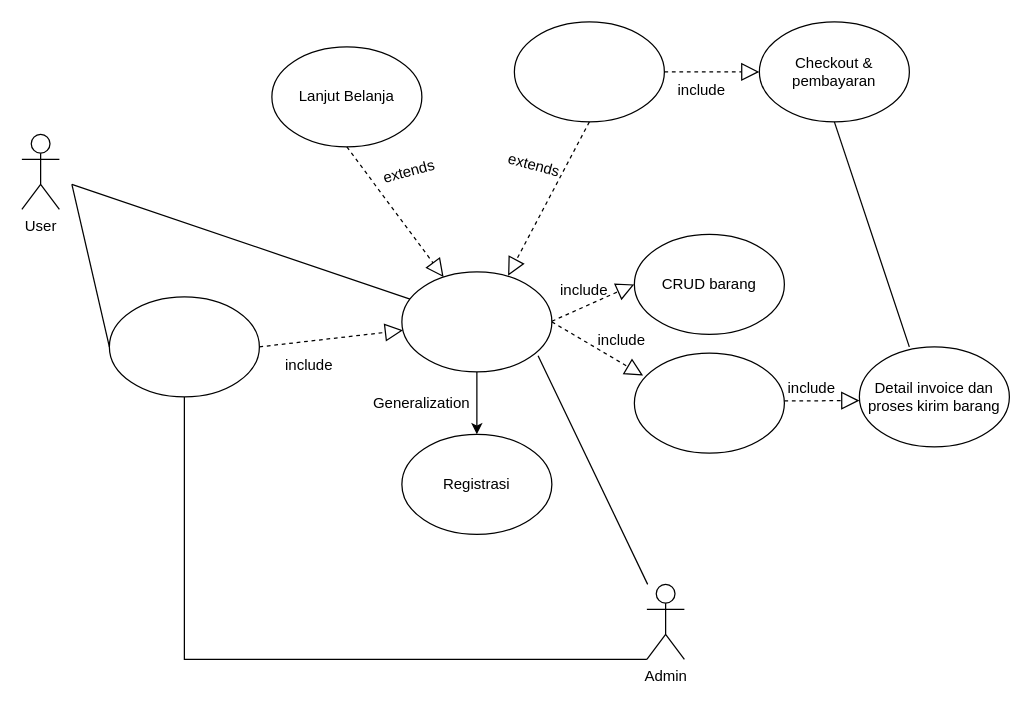
This 1031x708 diagram has some shape labels left out. Each missing label, with the centre of its shape:
"Akses Invoice" belongs at (708,402).
"Lihat barang belanjaan dan stok barang" belongs at (183,346).
"login" belongs at (476,321).
"Tambah ke keranjang" belongs at (588,71).
